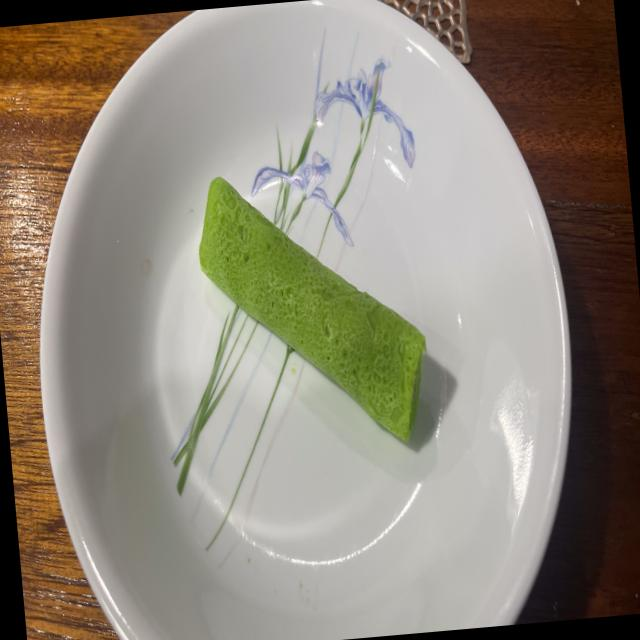Kuih-Ketayap: (199, 177, 425, 440)
